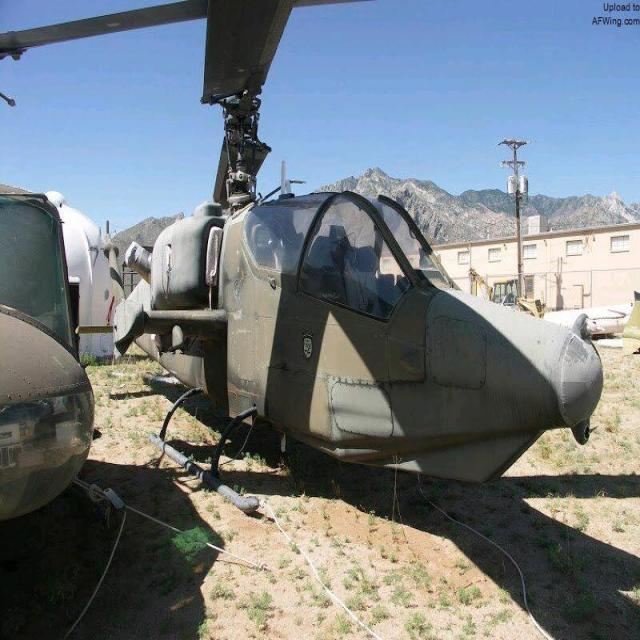MIL_HELO: (6, 0, 640, 538)
